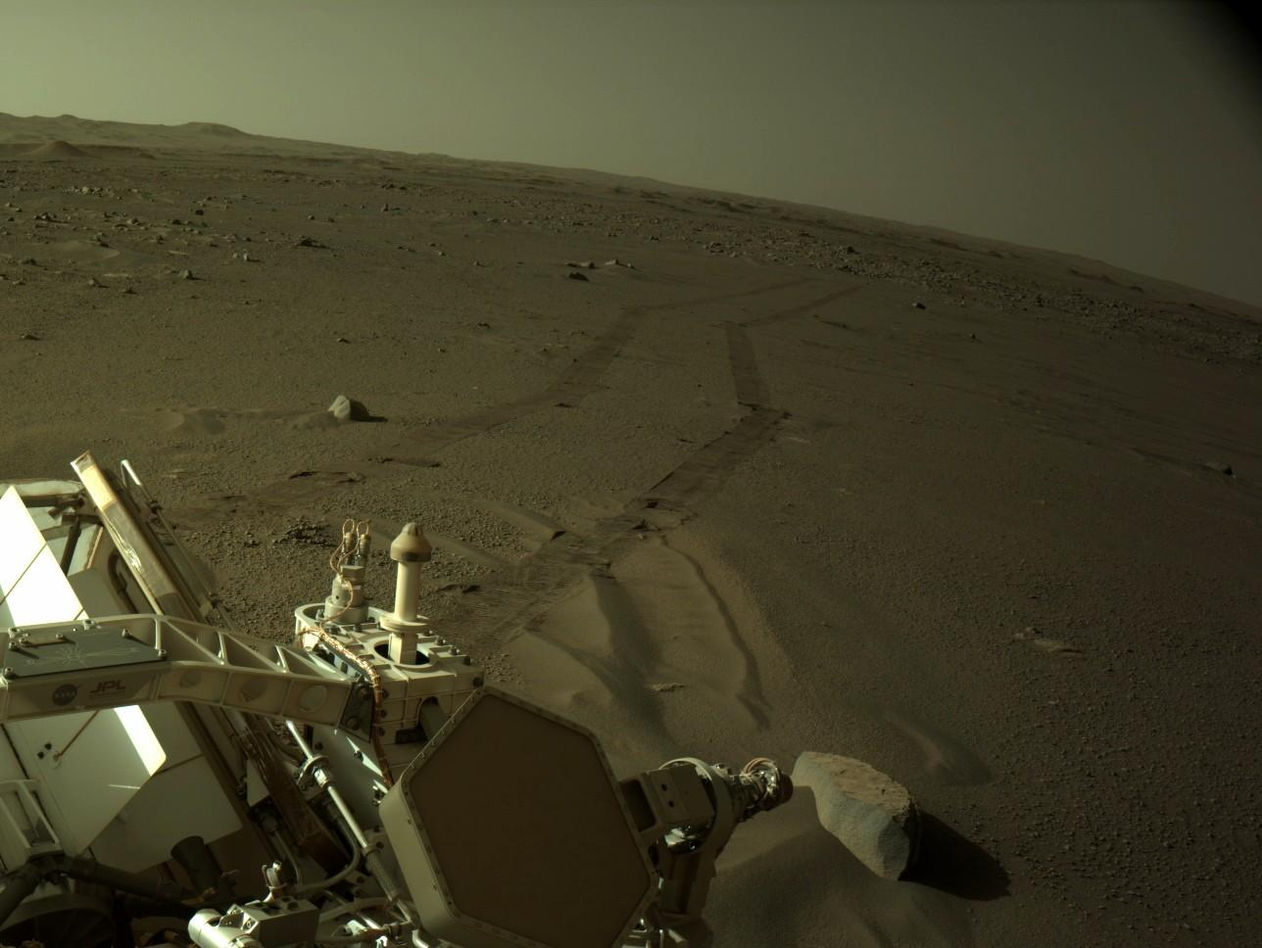bedrock: (461, 183, 1079, 291), (1250, 321, 1252, 329)
sand: (368, 504, 1003, 947), (6, 433, 79, 477), (77, 445, 81, 446)
soil: (5, 129, 1260, 947)
